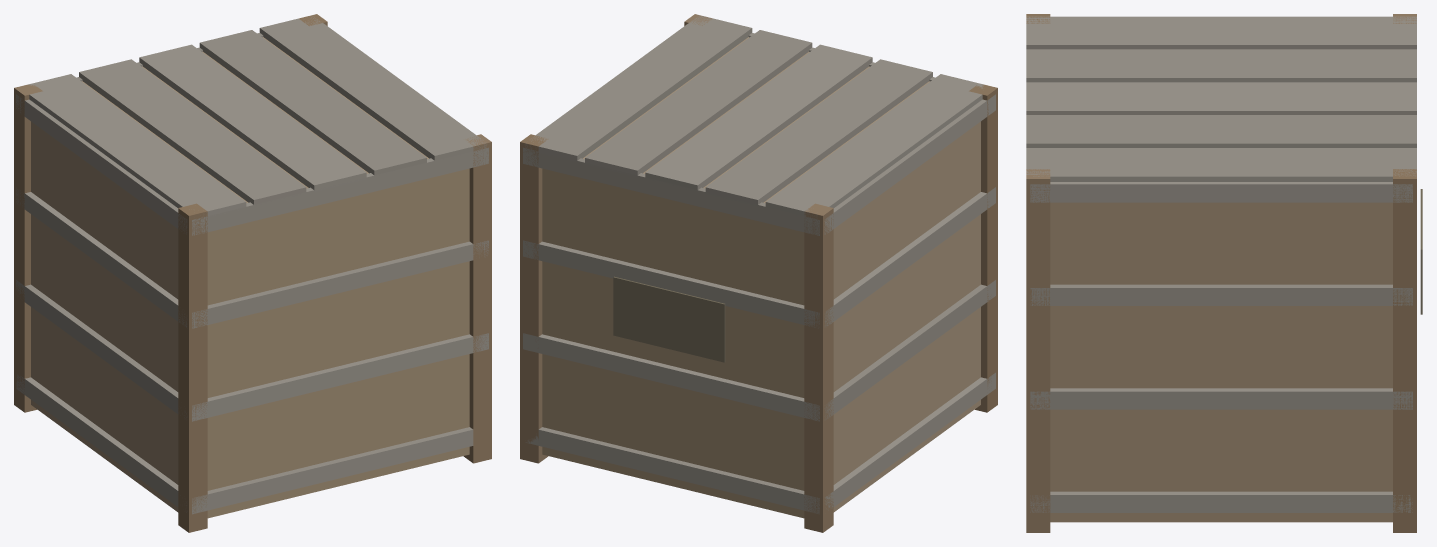
File: holzkiste_gross.glb
3 views of the same model, side by side, from view 1: azimuth 30°, elevation 25°; view 2: azimuth 150°, elevation 25°; view 3: azimuth 270°, elevation 25° (orthographic). The views are drawn at different scales.
Parts seen in each view (by area): view 1: kiste; view 2: kiste; view 3: kiste.
Part boxes in pixels (x1,y1,x2,y2): kiste: [14, 14, 491, 532]; kiste: [520, 14, 997, 532]; kiste: [1026, 14, 1422, 532].
Bounding box in the file's own units: 0.98 × 0.98 × 0.9945.
